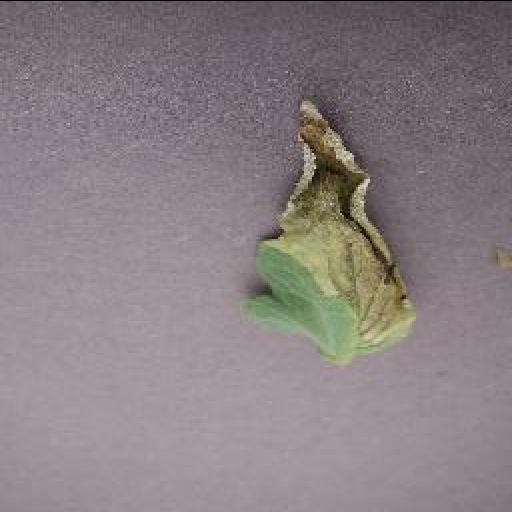disease_tomato: (250, 92, 418, 350)
